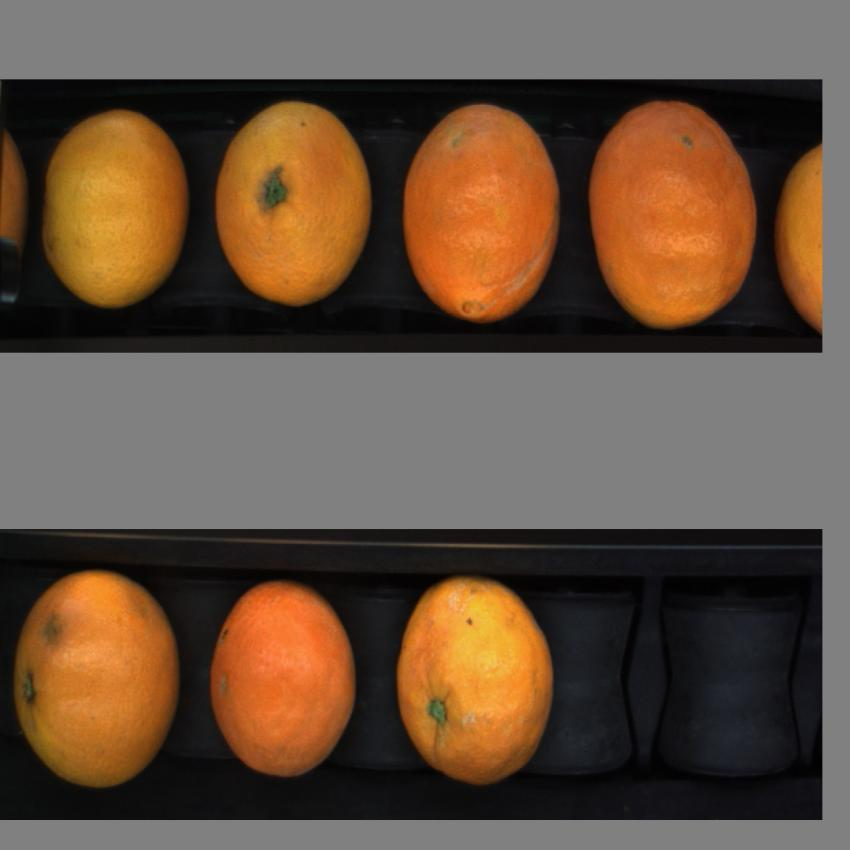Buen estado: (11, 562, 184, 792), (398, 104, 564, 328), (394, 574, 557, 795), (211, 94, 375, 312), (36, 102, 199, 317), (208, 573, 361, 785), (774, 126, 822, 334)
Mal estado: (584, 92, 760, 331)
